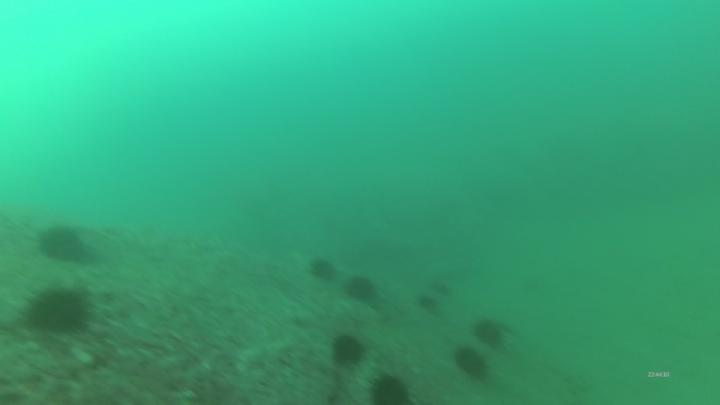echinus: (27, 285, 93, 339), (38, 226, 87, 265), (452, 344, 490, 382), (329, 333, 368, 369), (340, 274, 380, 307), (371, 376, 413, 405), (472, 319, 506, 350), (307, 256, 339, 285), (427, 277, 453, 304), (417, 293, 440, 317)
